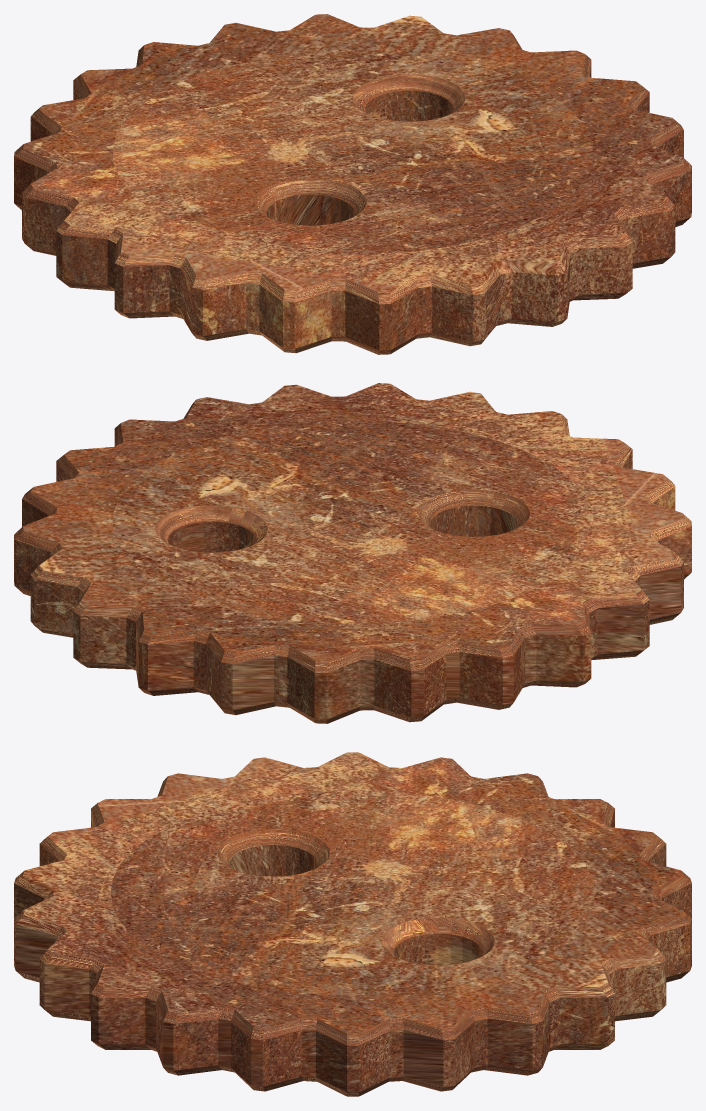
3 views of the same model, one above another, from view 1: azimuth 30°, elevation 25°; view 2: azimuth 150°, elevation 25°; view 3: azimuth 270°, elevation 25° (orthographic).
Parts seen in each view (by area): view 1: obj1; view 2: obj1; view 3: obj1.
Boxes of the visible parts, x1,y1,x2,y2 form: obj1: [14, 14, 691, 354]; obj1: [14, 383, 691, 723]; obj1: [14, 752, 691, 1096].
Size of the model in its own units: 225 by 22.96 by 224.
